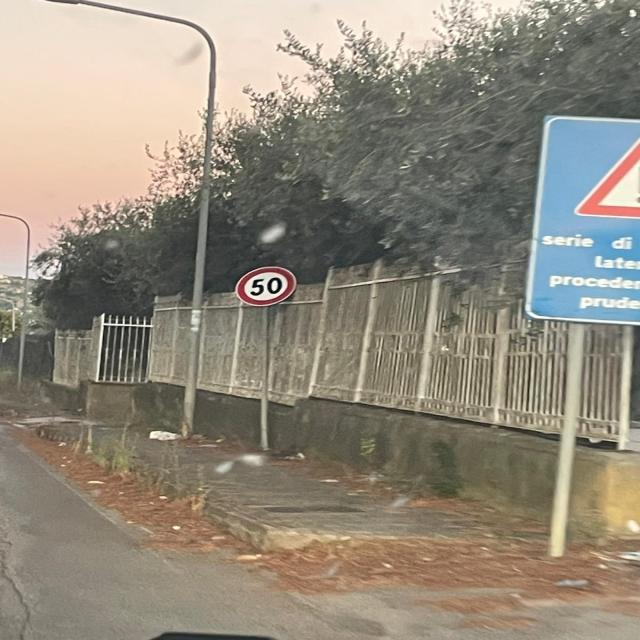forb_speed_over_50: (235, 266, 299, 308)
